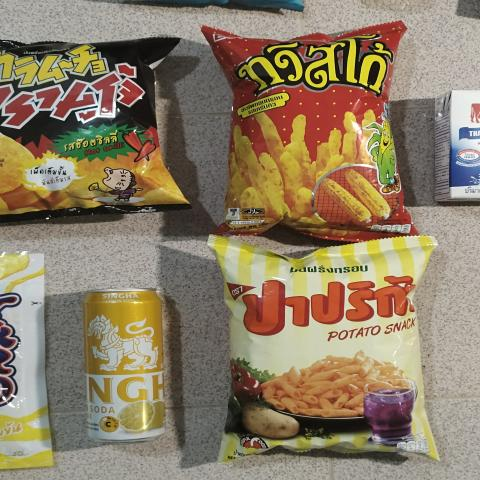karamujo: (0, 42, 188, 210)
paprika: (222, 245, 424, 453)
singha_yellow: (83, 283, 172, 444)
twisco: (230, 39, 402, 210)
